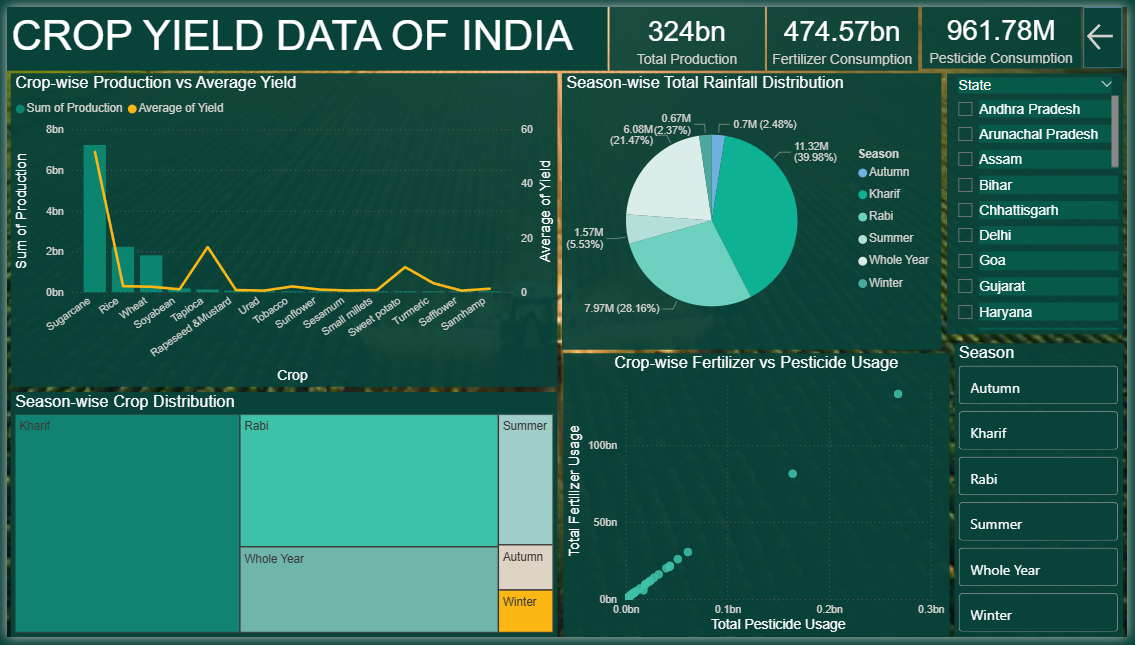

Layout of this report page (visuals, bound fields, positions):
{"tool":"powerbi","page":{"name":"Page 2","canvas":[1280,720],"ordinal":1},"visuals":[{"type":"treemap","title":"Season-wise Crop Distribution","fields":{"Group":["crop_yield.Season"],"Values":["Sum(crop_yield.Crop_Year)"]},"box":[3.8,440,625,280],"z":0},{"type":"lineStackedColumnComboChart","title":"Crop-wise Production vs Average Yield","fields":{"Y":["Sum(crop_yield.Production)"],"Category":["crop_yield.Crop"],"Y2":["Avg(crop_yield.Yield)"]},"box":[3.8,76.2,625,358.8],"z":1000},{"type":"pieChart","title":"Season-wise Total Rainfall Distribution","fields":{"Y":["Sum(crop_yield.Annual_Rainfall)"],"Series":["crop_yield.Season"]},"box":[633.8,76.2,433.8,316.2],"z":2000},{"type":"scatterChart","title":"Crop-wise Fertilizer vs Pesticide Usage","fields":{"X":["Sum(crop_yield.Pesticide)"],"Y":["Sum(crop_yield.Fertilizer)"],"Category":["crop_yield.Crop"]},"box":[635,396.2,441.2,323.8],"z":3000},{"type":"advancedSlicerVisual","fields":{"Values":["crop_yield.Season"]},"box":[1082.5,383.8,192.5,336.2],"z":4000},{"type":"slicer","fields":{"Values":["crop_yield.State"]},"box":[1073.8,76.2,201.2,298.8],"z":5000},{"type":"card","fields":{"Values":["Sum(crop_yield.Production)"]},"box":[688.8,0,177.5,72.5],"z":6000},{"type":"card","fields":{"Values":["Sum(crop_yield.Fertilizer)"]},"box":[868.8,0,172.5,72.5],"z":7000},{"type":"card","fields":{"Values":["Sum(crop_yield.Pesticide)"]},"box":[1045,0,181.2,70],"z":8000},{"type":"textbox","box":[0,0,686.2,72.5],"z":9000},{"type":"shape","box":[1230.6,0,44.6,70],"z":10000},{"type":"actionButton","box":[1230.6,14.5,44.6,39.8],"z":11000}]}

Visuals, with their boxes in screenshot pixels (x1, y1, x2, y2), scaled from the page's 1280x720 canvas onto the 1135x645 screenshot:
"Season-wise Crop Distribution" treemap: bbox=[3, 394, 558, 644]
"Crop-wise Production vs Average Yield" lineStackedColumnComboChart: bbox=[3, 68, 558, 390]
"Season-wise Total Rainfall Distribution" pieChart: bbox=[562, 68, 947, 352]
"Crop-wise Fertilizer vs Pesticide Usage" scatterChart: bbox=[563, 355, 954, 644]
advancedSlicerVisual - crop_yield.Season: bbox=[960, 344, 1131, 644]
slicer - crop_yield.State: bbox=[952, 68, 1131, 336]
card - Sum(crop_yield.Production): bbox=[611, 0, 768, 65]
card - Sum(crop_yield.Fertilizer): bbox=[770, 0, 923, 65]
card - Sum(crop_yield.Pesticide): bbox=[927, 0, 1087, 63]
textbox: bbox=[0, 0, 608, 65]
shape: bbox=[1091, 0, 1131, 63]
actionButton: bbox=[1091, 13, 1131, 49]
